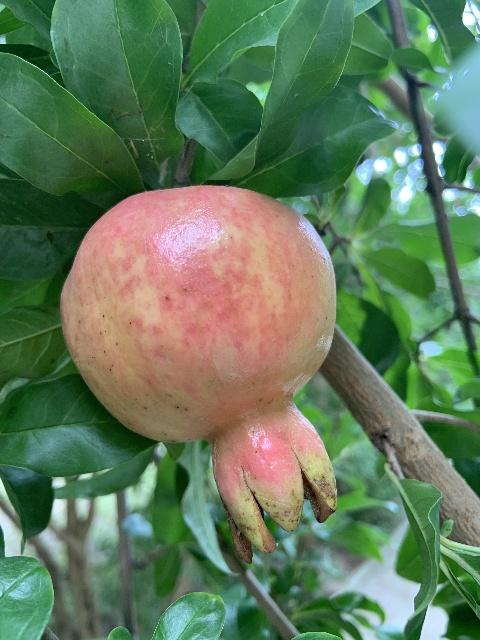ripe: (61, 185, 335, 563)
